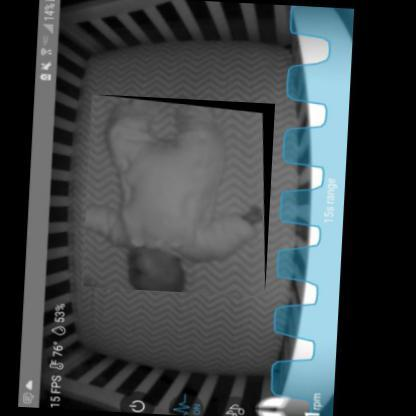baby: (82, 104, 263, 292)
